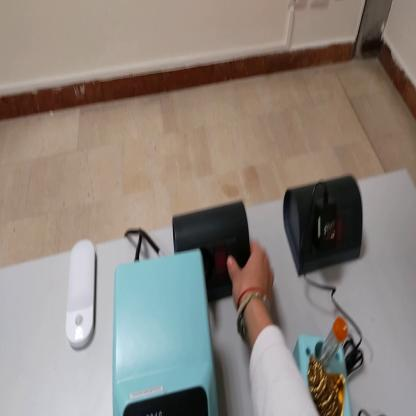hand: (228, 242, 276, 316)
socket: (173, 200, 250, 309), (284, 174, 363, 280)
welder base: (296, 316, 355, 416)
welder station: (109, 246, 221, 415)
